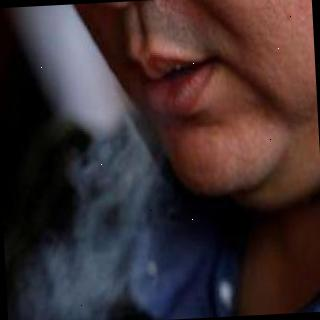smoke: (41, 162, 156, 320)
